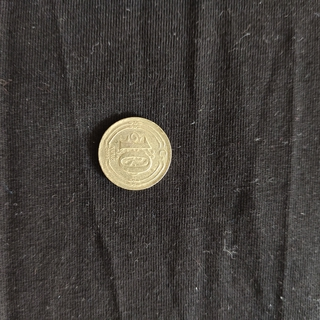10KURUS: (96, 115, 173, 191)
